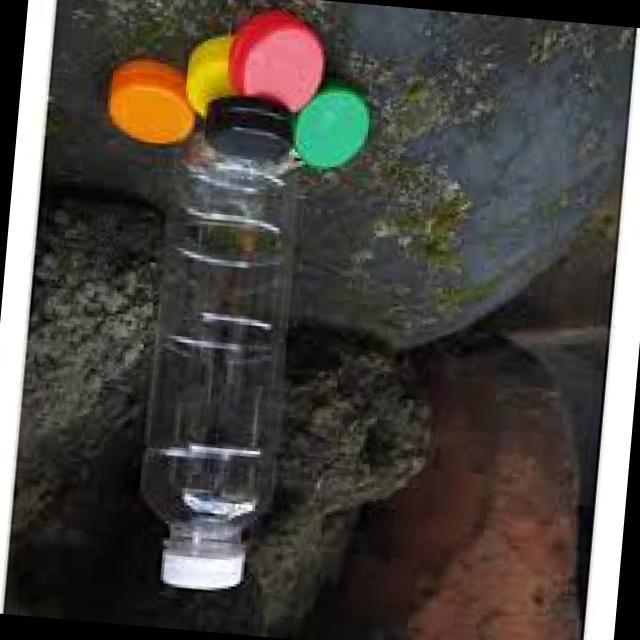good: (123, 116, 383, 613)
